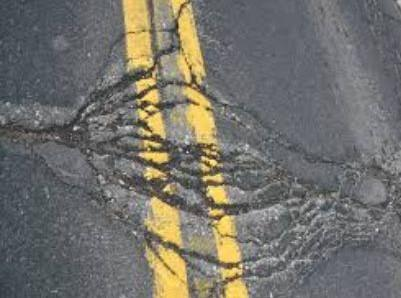alligator-crack: (28, 35, 392, 282)
